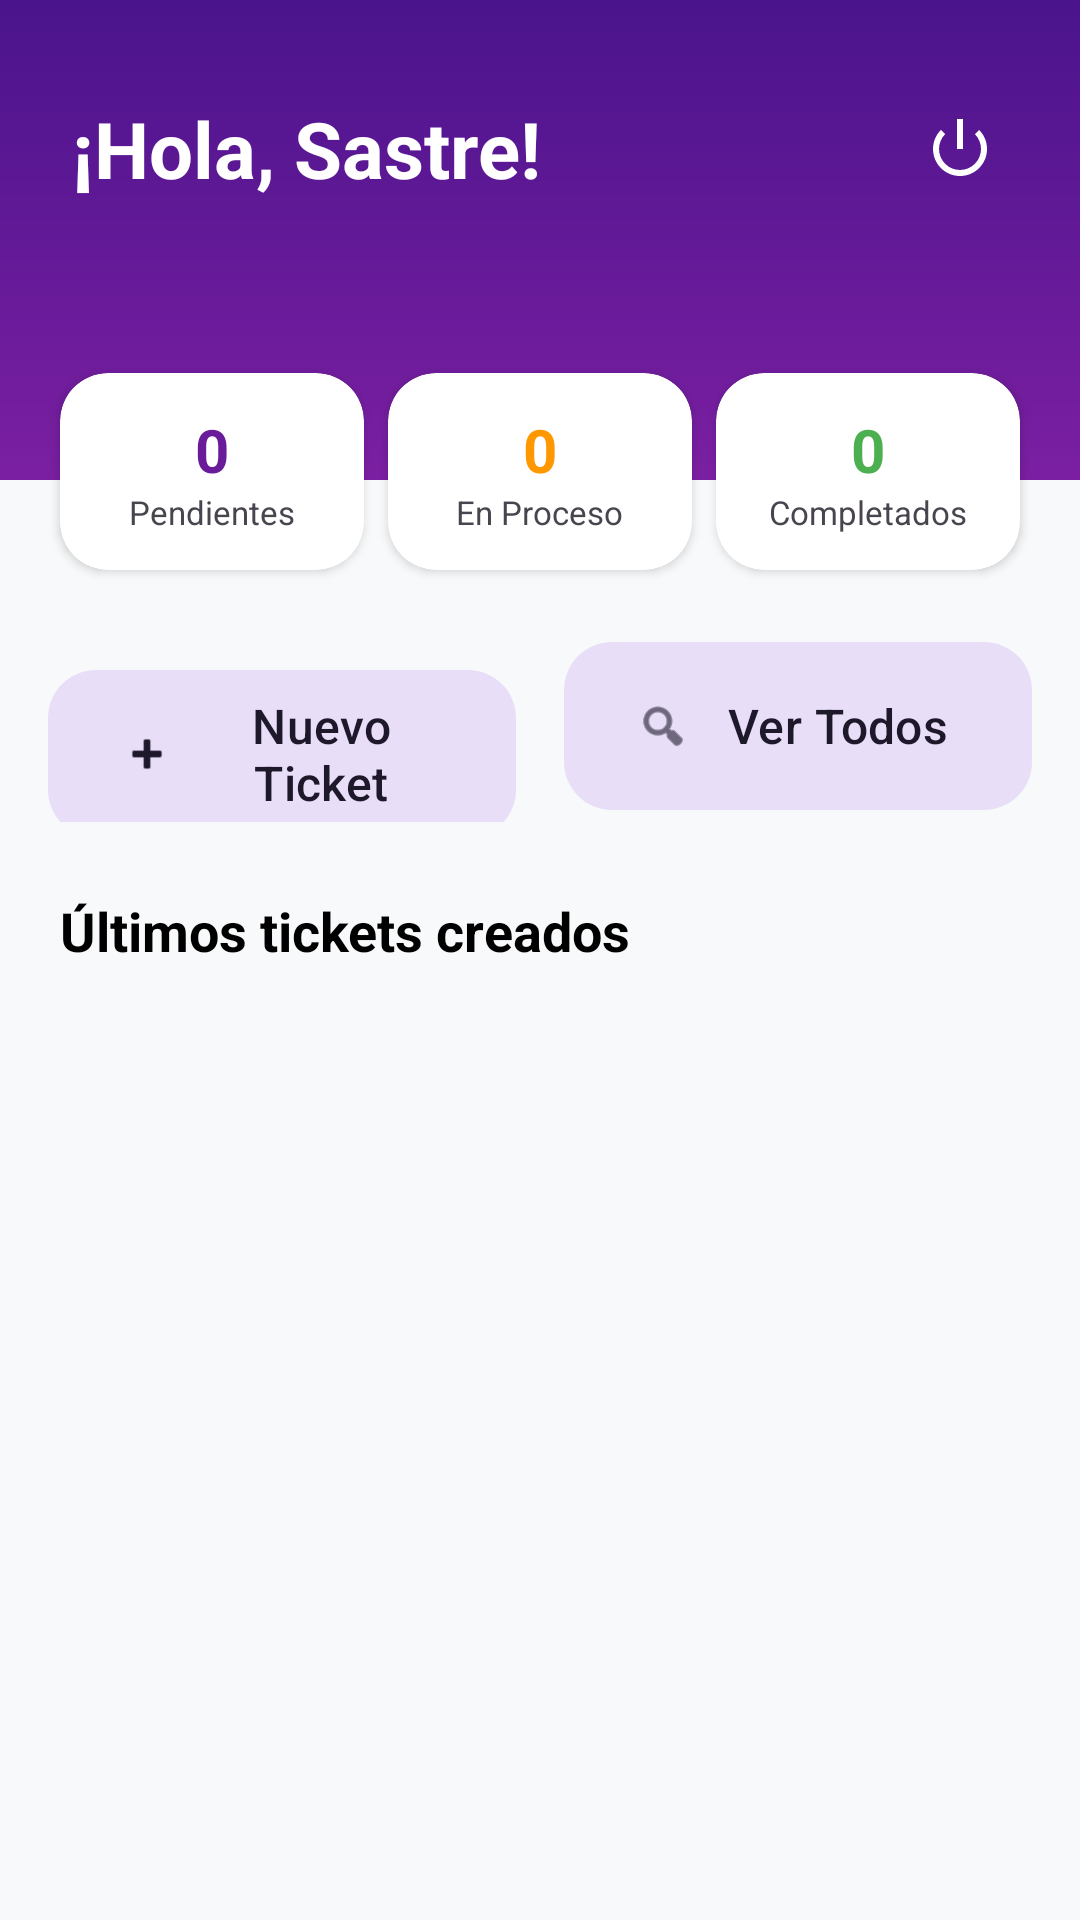

Screen size 1080w x 1920h. Icon name, then its center in pixels as (x,y):
lock power off: (960,147)
